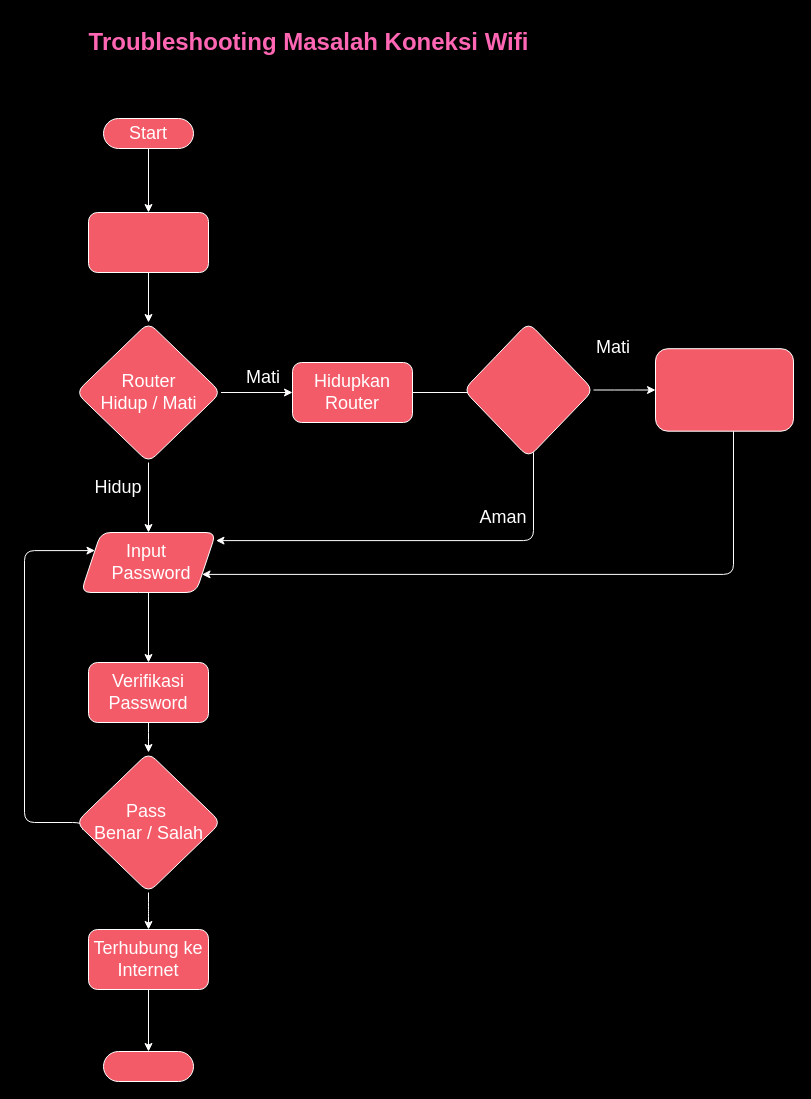
The diagram is 811 pixels wide and 1099 high, and some of its shapes have lost their labels. The shapes that lost their labels are listed below. From the top down, each one's box as (x1, y1, x2, y2) in pixels, then its label:
(88, 212, 208, 272): Wifi tidak terhubung !!
(462, 322, 594, 458): Internet Aman / Tidak
(654, 348, 794, 431): Hubungi Layanan Internet / Restart Router
(102, 1050, 194, 1082): End
